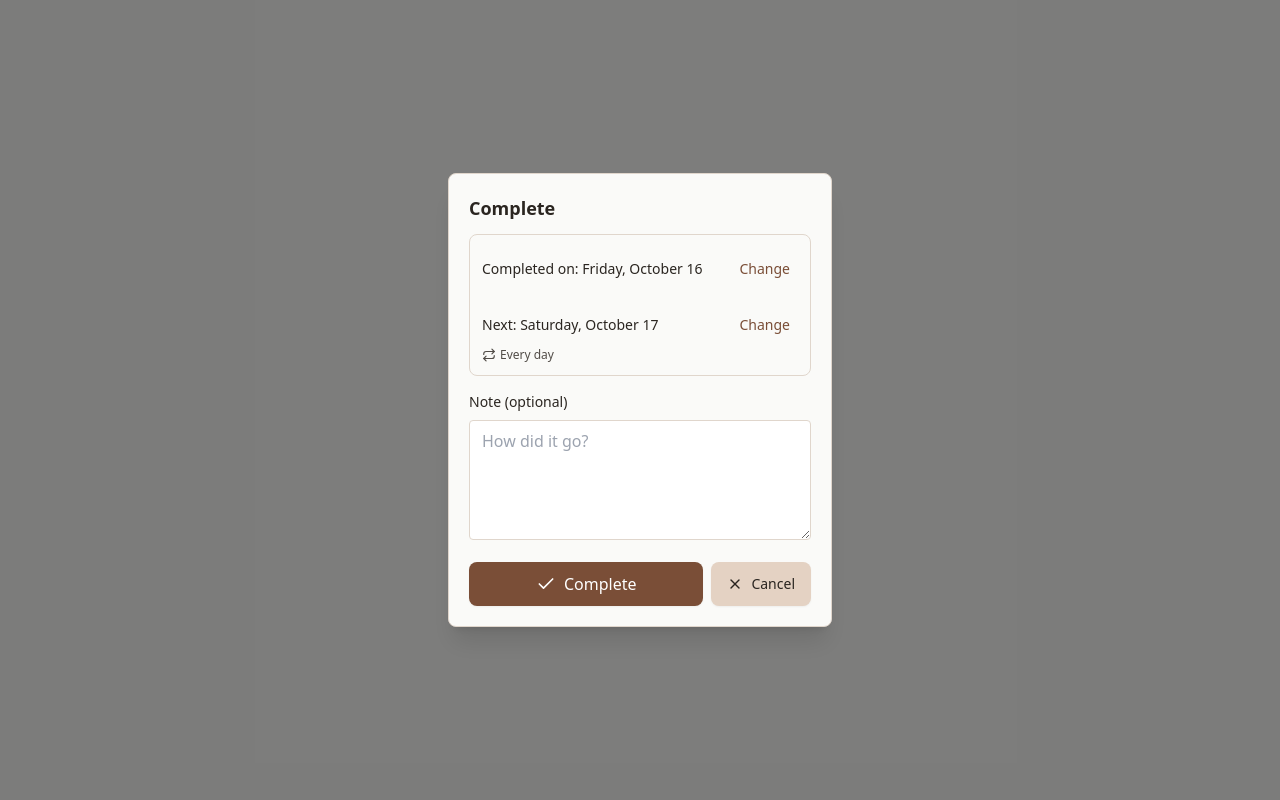
Test: a Next past the end of the repeat is refused
Click the button with aria-label "Change next": (765,325) [732,303,798,347]
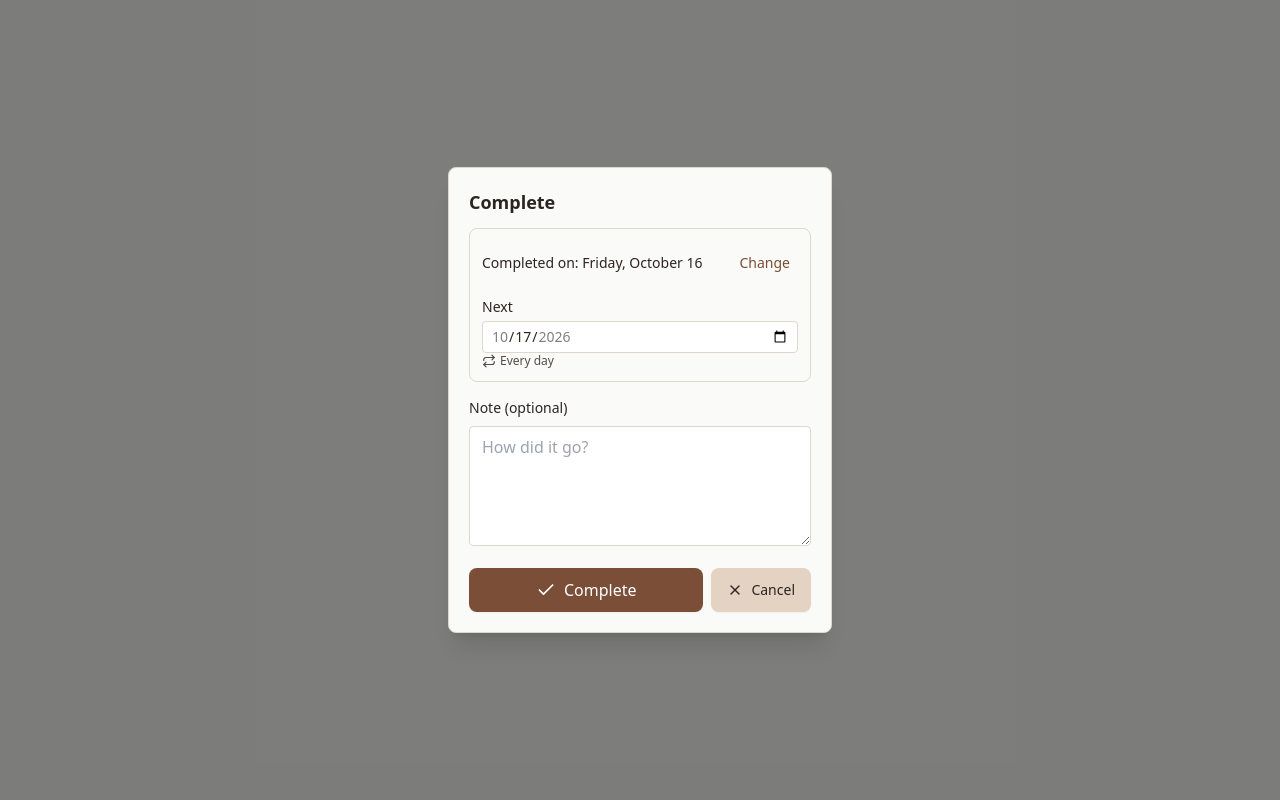
In the date field labelled "Next": (640,337) [482,321,798,353], type "2026-10-25"
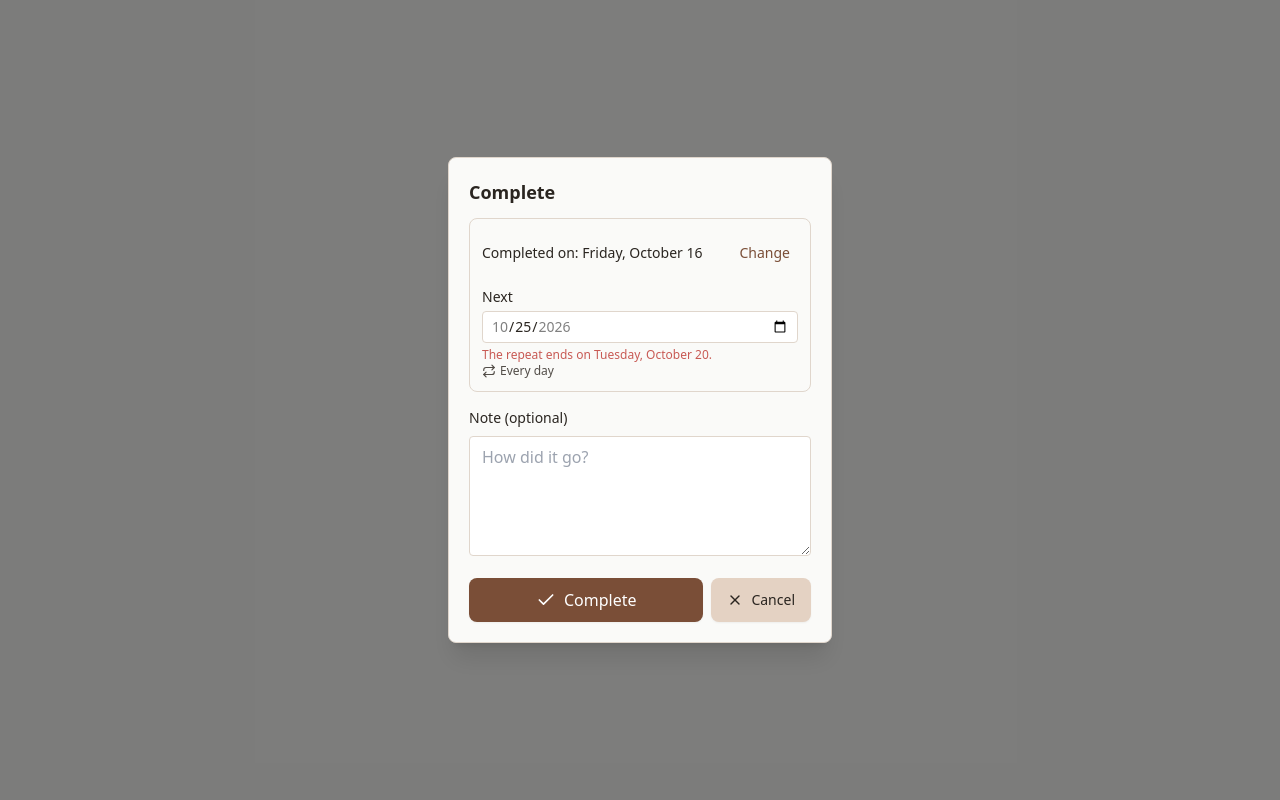
Expected: the message reads "The repeat ends on Tuesday, October 20.", [482,346,712,363]
